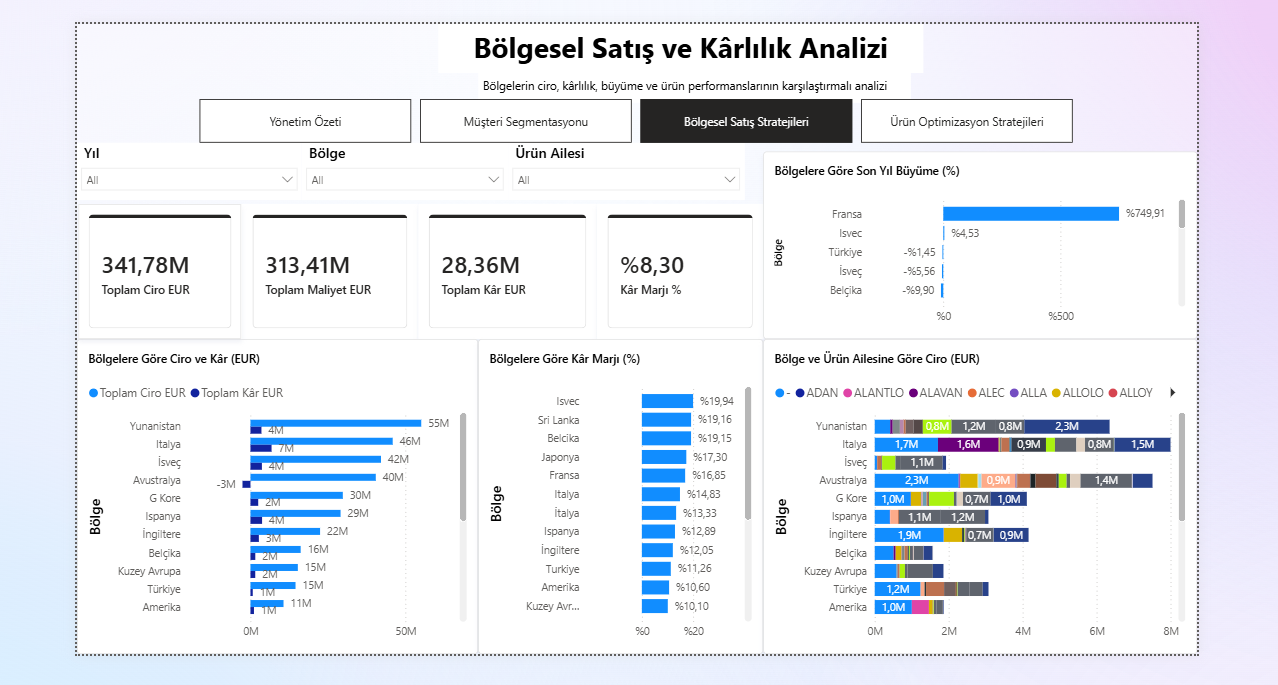

The page's visual inventory and layout, read from the dashboard file:
{"tool":"powerbi","page":{"name":"Bölgesel Satış Stratejileri","canvas":[1280,720],"ordinal":2},"visuals":[{"type":"cardVisual","fields":{"Data":["Satış Verileri.Toplam Maliyet EUR"]},"box":[188.6,205.7,201.4,154.3],"z":0},{"type":"cardVisual","fields":{"Data":["Satış Verileri.Toplam Kâr EUR"]},"box":[390,205.7,204.3,154.3],"z":1000},{"type":"cardVisual","fields":{"Data":["Satış Verileri.Kâr Marjı %"]},"box":[594.3,205.7,190,154.3],"z":2000},{"type":"clusteredBarChart","title":"Bölgelere Göre Ciro ve Kâr (EUR)","fields":{"Category":["Satış Verileri.Bölge"],"Y":["Satış Verileri.Toplam Ciro EUR","Satış Verileri.Toplam Kâr EUR"]},"box":[0,360,458.6,360],"z":3000},{"type":"clusteredBarChart","title":"Bölgelere Göre Kâr Marjı (%)","fields":{"Category":["Satış Verileri.Bölge"],"Y":["Satış Verileri.Kâr Marjı %"]},"box":[458.6,360,325.7,360],"z":4000},{"type":"clusteredBarChart","title":"Bölgelere Göre Son Yıl Büyüme (%)","fields":{"Category":["Satış Verileri.Bölge"],"Y":["Satış Verileri.Son Yıl Büyüme %"]},"box":[784.3,145.7,495.7,214.3],"z":5000},{"type":"barChart","title":"Bölge ve Ürün Ailesine Göre Ciro (EUR)","fields":{"Category":["Satış Verileri.Bölge"],"Y":["Satış Verileri.Toplam Ciro EUR"],"Series":["Ürün Master.Ürün Ailesi"]},"box":[784.3,360,495.7,360],"z":6000},{"type":"slicer","fields":{"Values":["Tarih.Yıl"]},"box":[0,135.7,257.1,65.7],"z":7000},{"type":"slicer","fields":{"Values":["Satış Verileri.Bölge"]},"box":[257.1,135.7,235.7,65.7],"z":8000},{"type":"slicer","fields":{"Values":["Ürün Master.Ürün Ailesi"]},"box":[492.9,135.7,270,65.7],"z":9000},{"type":"cardVisual","fields":{"Data":["Satış Verileri.Toplam Ciro EUR"]},"box":[1.4,205.7,187.1,154.3],"z":10000},{"type":"textbox","box":[412.9,0,554.3,55.7],"z":11000},{"type":"textbox","box":[458.6,55.7,494.3,34.3],"z":12000},{"type":"pageNavigator","box":[140,85.7,1000,50],"z":12001}]}

Visuals, with their boxes on the page's 1280x720 design canvas (x1, y1, x2, y2). These are canvas units, not pixel positions in the 1278x685 screenshot, which may show the page scaled, cropped or inside an application window:
cardVisual - Satış Verileri.Toplam Maliyet EUR: bbox=[189, 206, 390, 360]
cardVisual - Satış Verileri.Toplam Kâr EUR: bbox=[390, 206, 594, 360]
cardVisual - Satış Verileri.Kâr Marjı %: bbox=[594, 206, 784, 360]
"Bölgelere Göre Ciro ve Kâr (EUR)" clusteredBarChart: bbox=[0, 360, 459, 720]
"Bölgelere Göre Kâr Marjı (%)" clusteredBarChart: bbox=[459, 360, 784, 720]
"Bölgelere Göre Son Yıl Büyüme (%)" clusteredBarChart: bbox=[784, 146, 1280, 360]
"Bölge ve Ürün Ailesine Göre Ciro (EUR)" barChart: bbox=[784, 360, 1280, 720]
slicer - Tarih.Yıl: bbox=[0, 136, 257, 201]
slicer - Satış Verileri.Bölge: bbox=[257, 136, 493, 201]
slicer - Ürün Master.Ürün Ailesi: bbox=[493, 136, 763, 201]
cardVisual - Satış Verileri.Toplam Ciro EUR: bbox=[1, 206, 188, 360]
textbox: bbox=[413, 0, 967, 56]
textbox: bbox=[459, 56, 953, 90]
pageNavigator: bbox=[140, 86, 1140, 136]
